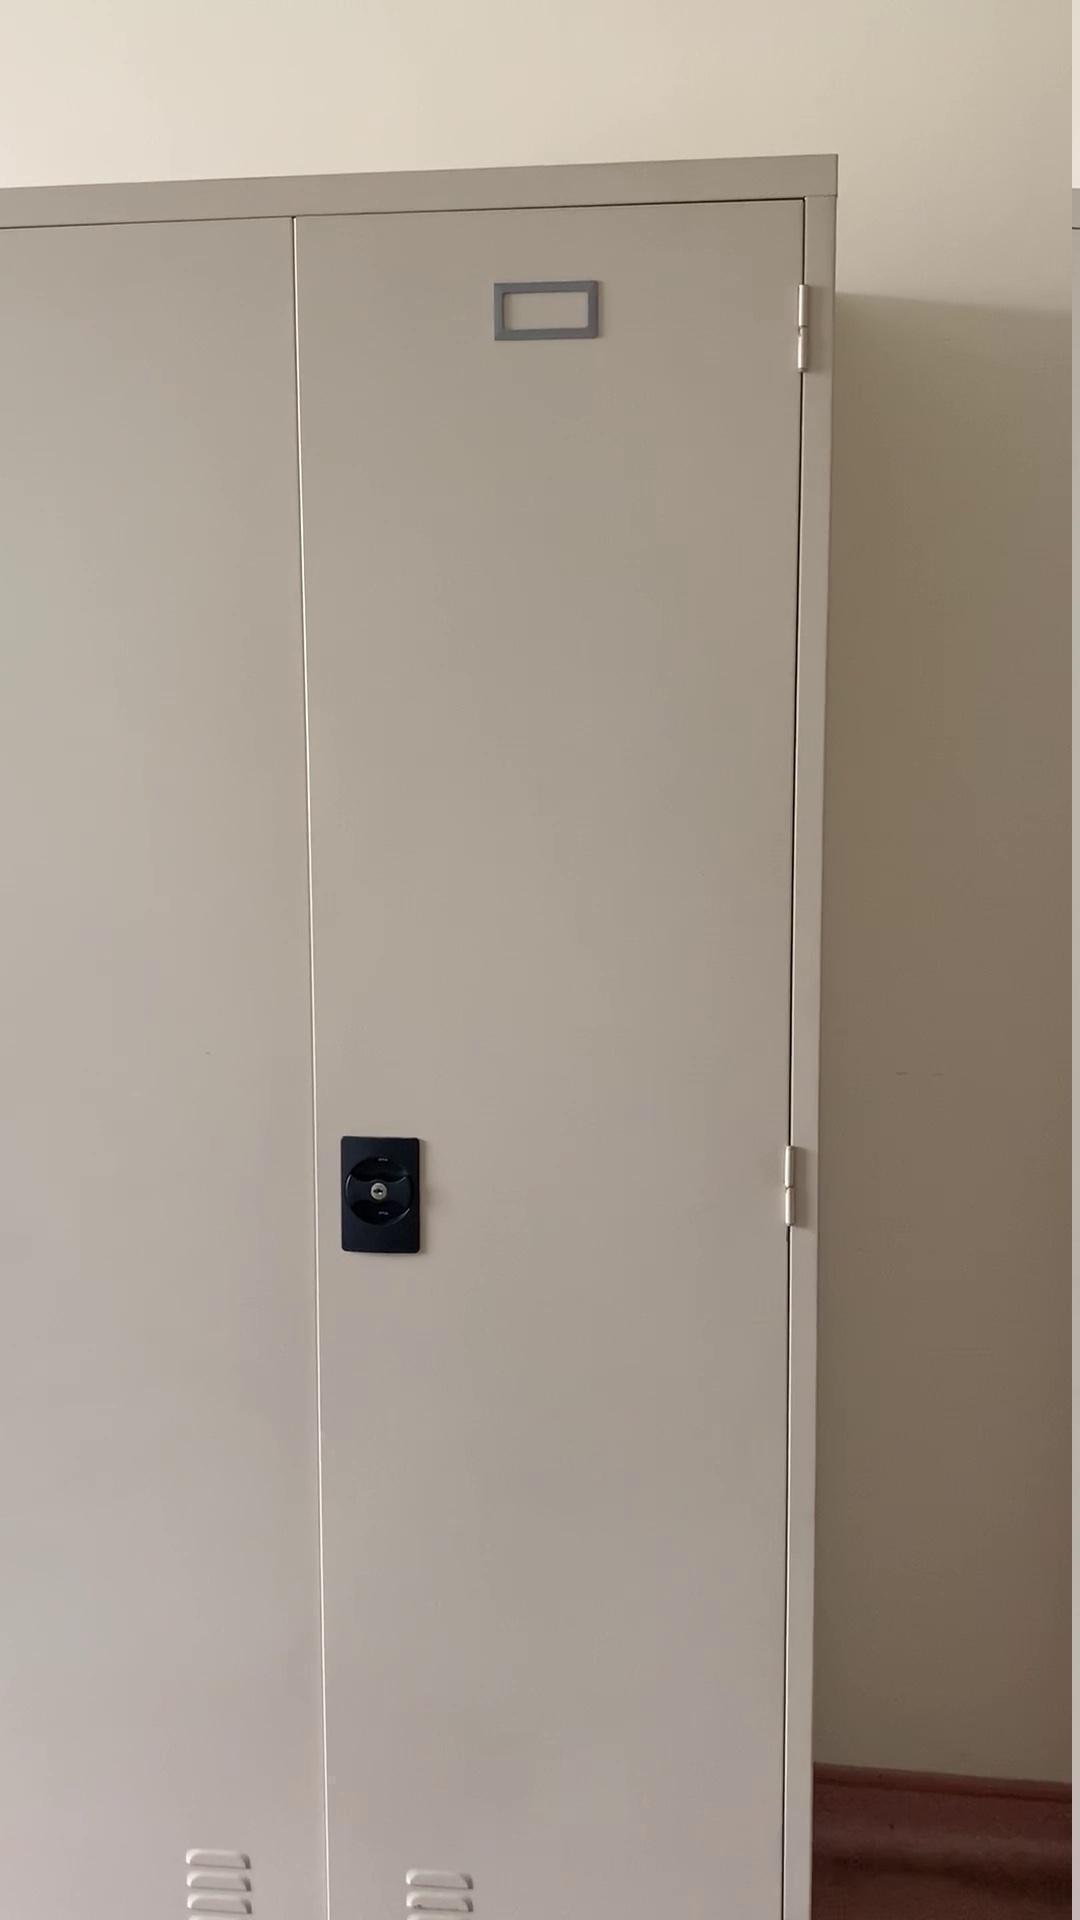Armario: (0, 113, 828, 1909)
